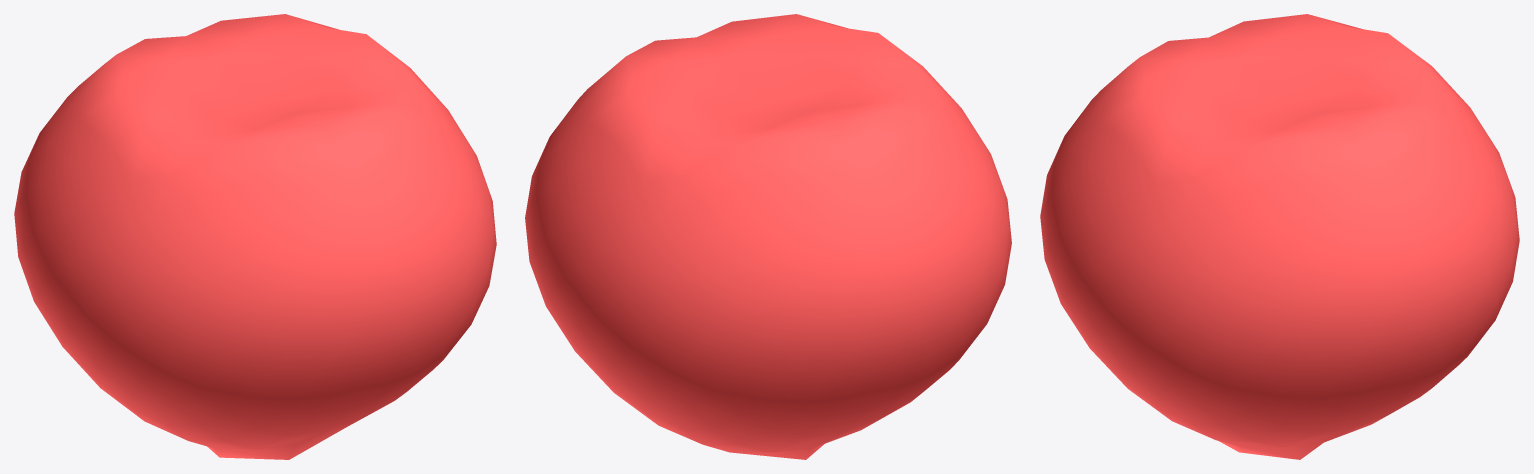
The model's file is strawberry.dae.
The picture shows the model from 3 angles, left to right: view 1: azimuth 30°, elevation 25°; view 2: azimuth 150°, elevation 25°; view 3: azimuth 270°, elevation 25°; orthographic projection.
Visible parts, largest first — view 1: Cube_001; view 2: Cube_001; view 3: Cube_001.
Boxes of the visible parts, x1,y1,x2,y2 form: Cube_001: (14,14,496,459); Cube_001: (525,14,1011,459); Cube_001: (1040,14,1519,459).
Size of the model in its own units: 0.0424 by 0.0425 by 0.0364.
